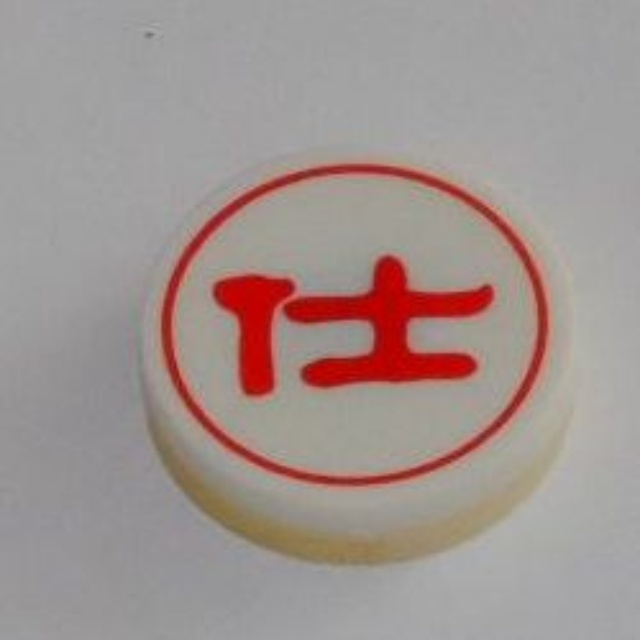red_si: (129, 139, 586, 580)
